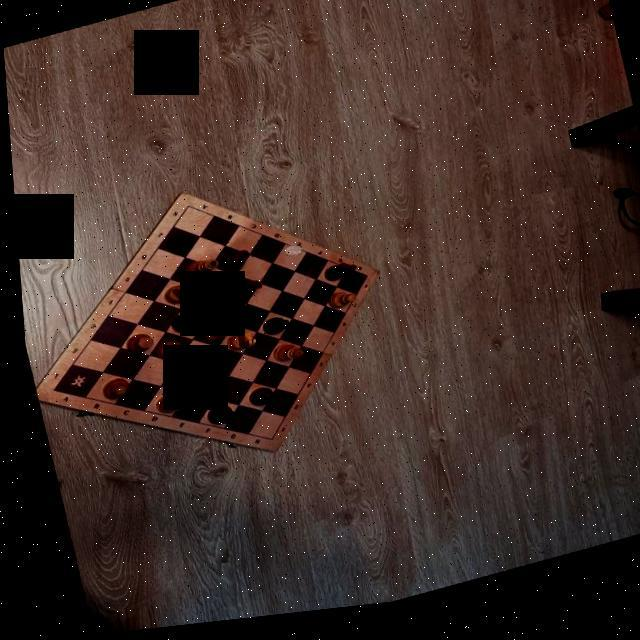chess-table-corners: (44, 386, 52, 394), (181, 205, 189, 212), (262, 440, 268, 447), (359, 280, 365, 286)
